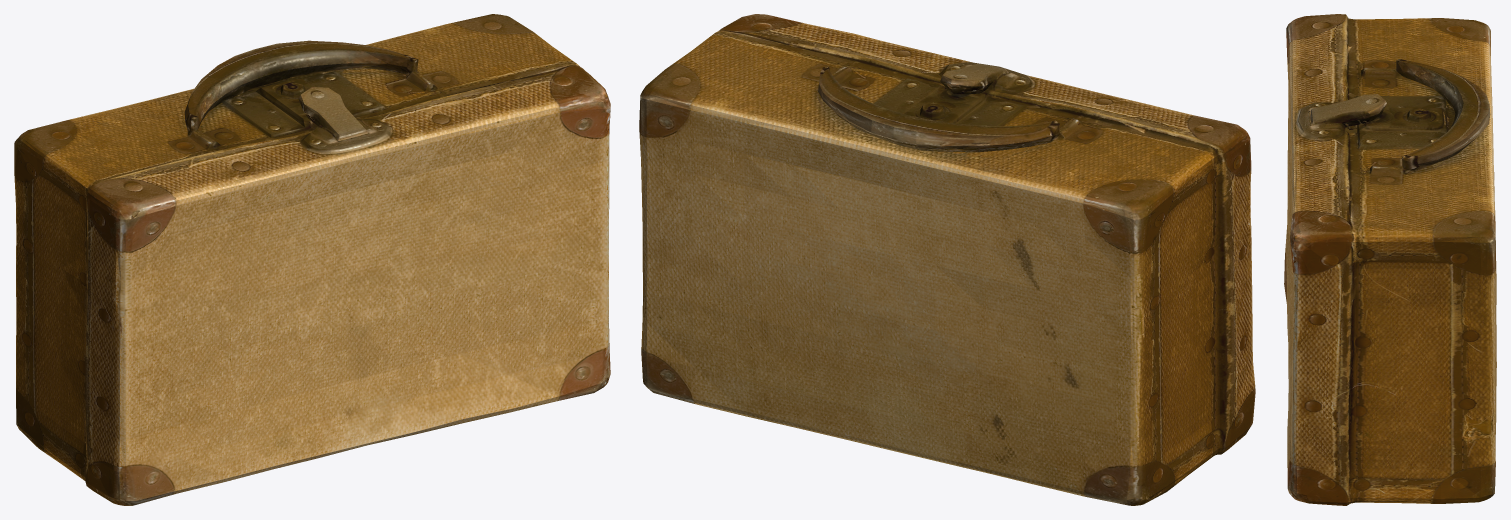
Rendered from vintage.obj.
The picture shows the model from 3 angles, left to right: view 1: azimuth 30°, elevation 25°; view 2: azimuth 150°, elevation 25°; view 3: azimuth 270°, elevation 25°; orthographic projection. The views are drawn at different scales.
Size of the model in its own units: 0.8 by 0.5 by 0.32.
